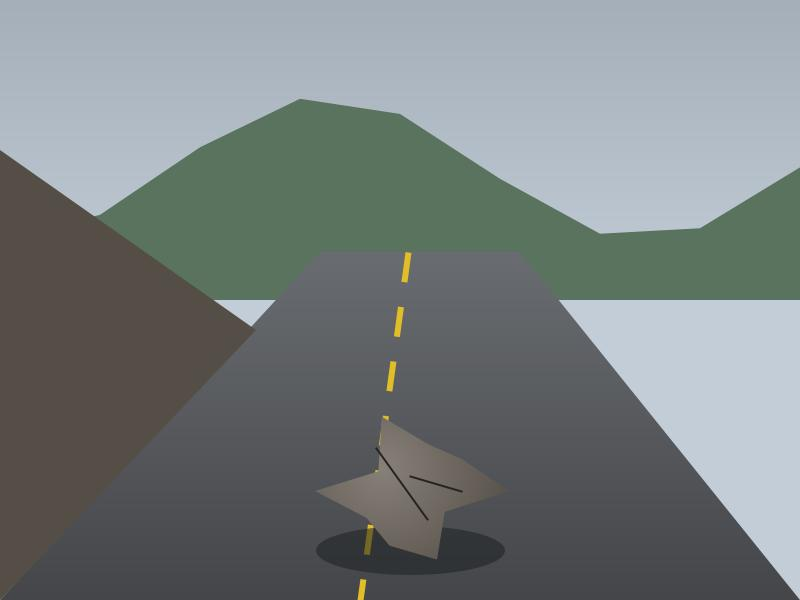ROAD_OBSTACLE: (326, 420, 495, 562)
